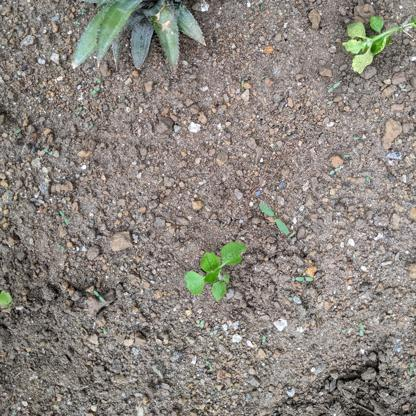pineapple: (68, 1, 214, 77)
weed: (338, 16, 416, 74), (185, 239, 247, 306)
